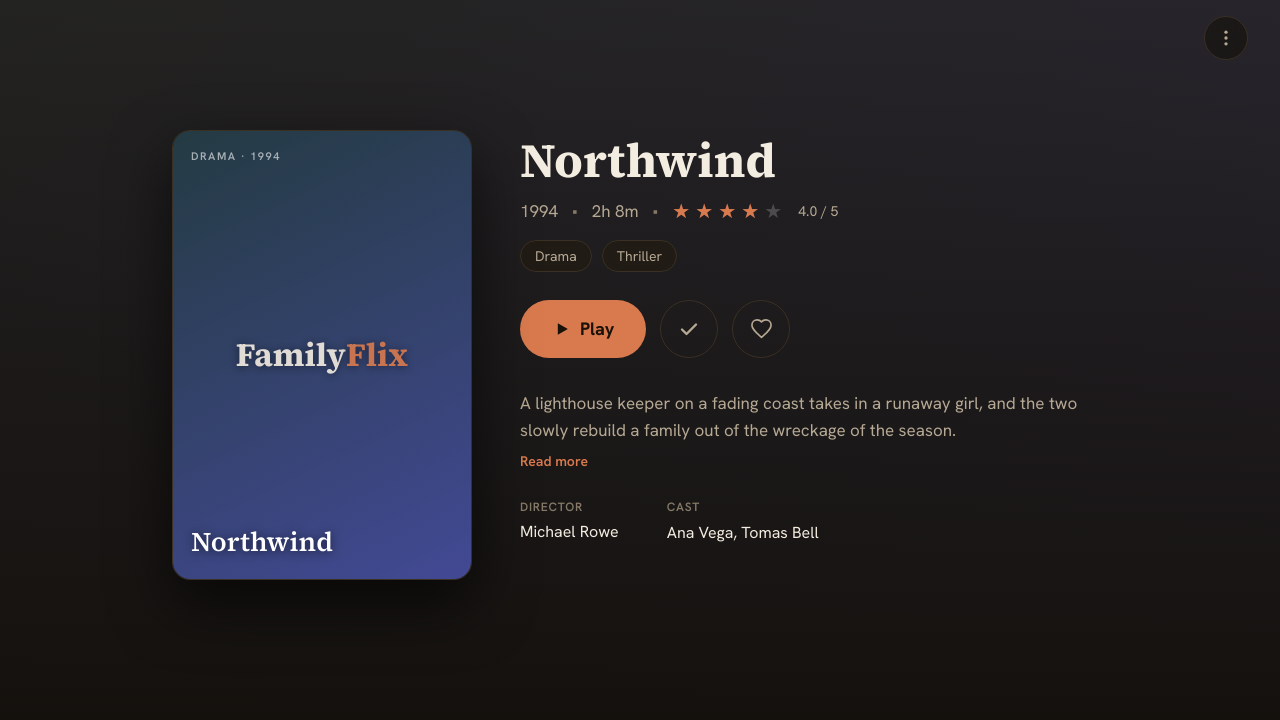
MovieDetail — the two toggles › fills the circle immediately when it is clicked, and the badge agrees
What coordinates should you click on to do the following:
click the button named "mark as watched"
I would click on:
 (689, 329)
Its box is [660, 300, 718, 358].
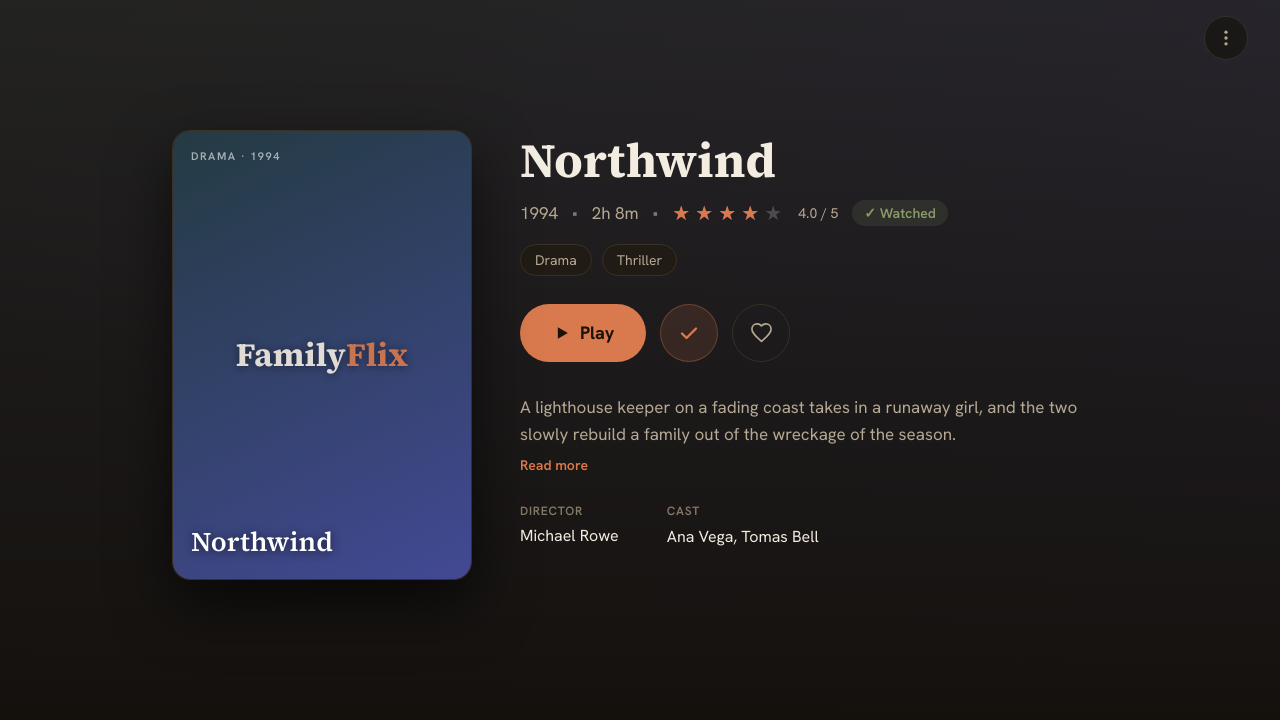
Expected: the text "✓ Watched" is shown, [852, 200, 948, 226]
